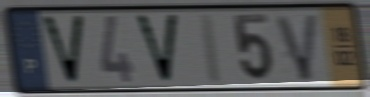4: (98, 13, 136, 87)
5: (229, 12, 276, 84)
I: (198, 11, 225, 87)
V: (131, 12, 181, 86), (38, 13, 87, 87), (272, 11, 321, 84)
